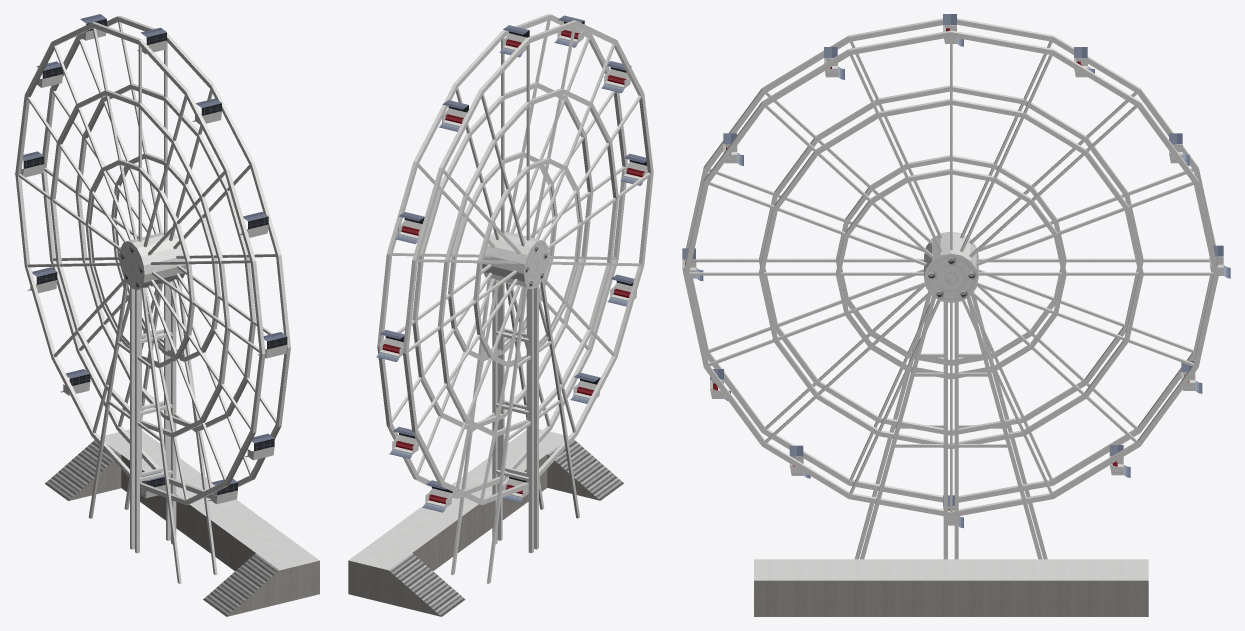
The model's file is FerrisWheel.fbx.
3 views of the same model, side by side, from view 1: azimuth 30°, elevation 25°; view 2: azimuth 150°, elevation 25°; view 3: azimuth 270°, elevation 25° (orthographic). The views are drawn at different scales.
Parts seen in each view (by area): view 1: Empty_Mesh; view 2: Empty_Mesh; view 3: Empty_Mesh.
Boxes of the visible parts, x1=… form: Empty_Mesh: x1=14, y1=14, x2=319, y2=616; Empty_Mesh: x1=348, y1=14, x2=653, y2=616; Empty_Mesh: x1=682, y1=14, x2=1230, y2=616.
Bounding box in the file's own units: 16.62 × 84.18 × 75.07.
